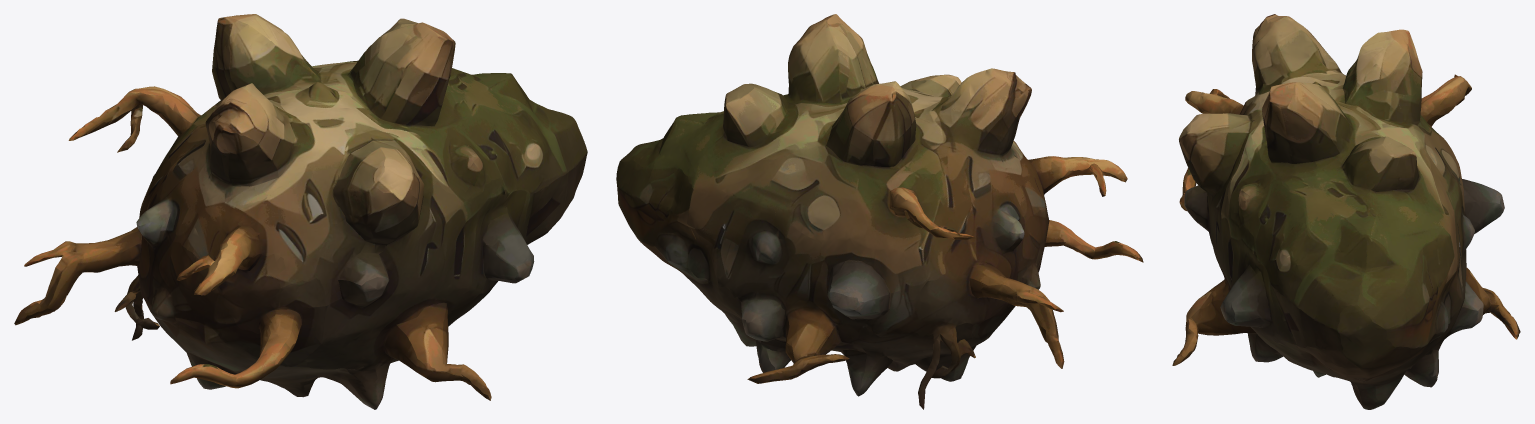
File: item_wild_tuber.glb
The picture shows the model from 3 angles, left to right: view 1: azimuth 30°, elevation 25°; view 2: azimuth 150°, elevation 25°; view 3: azimuth 270°, elevation 25°; orthographic projection. The views are drawn at different scales.
Visible parts, largest first — view 1: item_wild_tuber; view 2: item_wild_tuber; view 3: item_wild_tuber.
Boxes of the visible parts, left/top/right/bottom form: item_wild_tuber: left=14, top=14, right=587, bottom=409; item_wild_tuber: left=616, top=14, right=1143, bottom=409; item_wild_tuber: left=1172, top=14, right=1520, bottom=409.
Bounding box in the file's own units: 0.18 × 0.1173 × 0.1163.
1 material, 1 textured.
